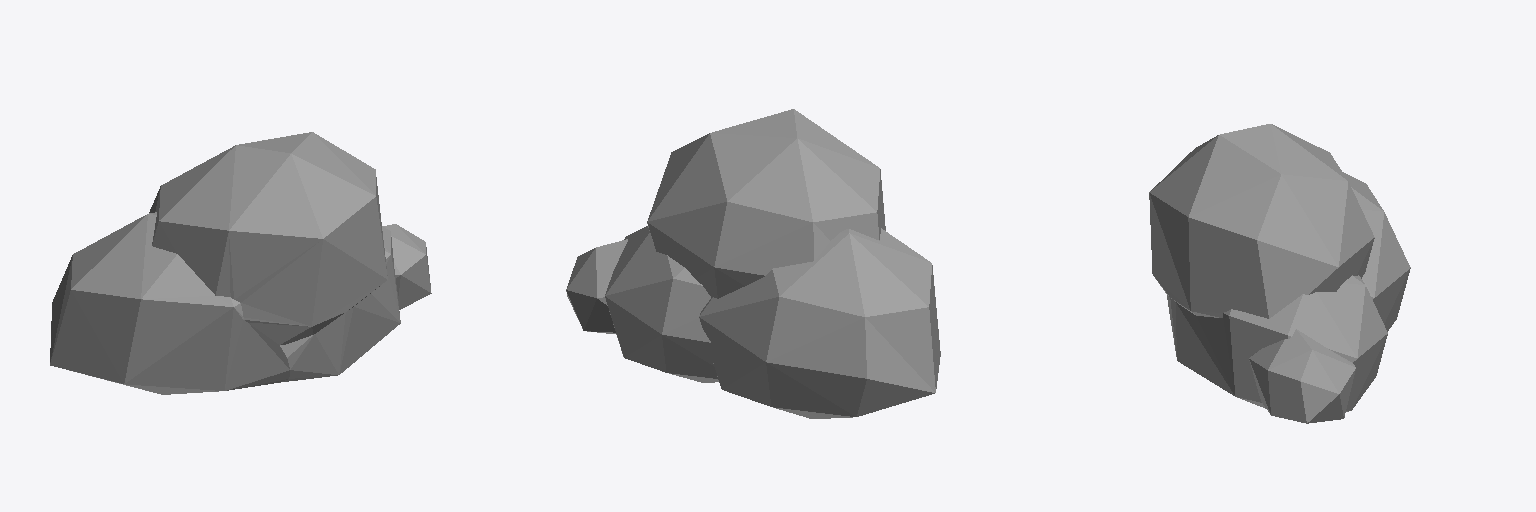
The model's file is Cloud5.obj.
3 views of the same model, side by side, from view 1: azimuth 30°, elevation 25°; view 2: azimuth 150°, elevation 25°; view 3: azimuth 270°, elevation 25° (orthographic).
Parts seen in each view (by area): view 1: Sphere.001_Sphere.002; view 2: Sphere.001_Sphere.002; view 3: Sphere.001_Sphere.002.
Part boxes in pixels (bbox=[...]): Sphere.001_Sphere.002: bbox=[50, 132, 431, 394]; Sphere.001_Sphere.002: bbox=[566, 109, 940, 418]; Sphere.001_Sphere.002: bbox=[1149, 124, 1410, 423].
Size of the model in its own units: 6.17 by 3.9 by 3.73.